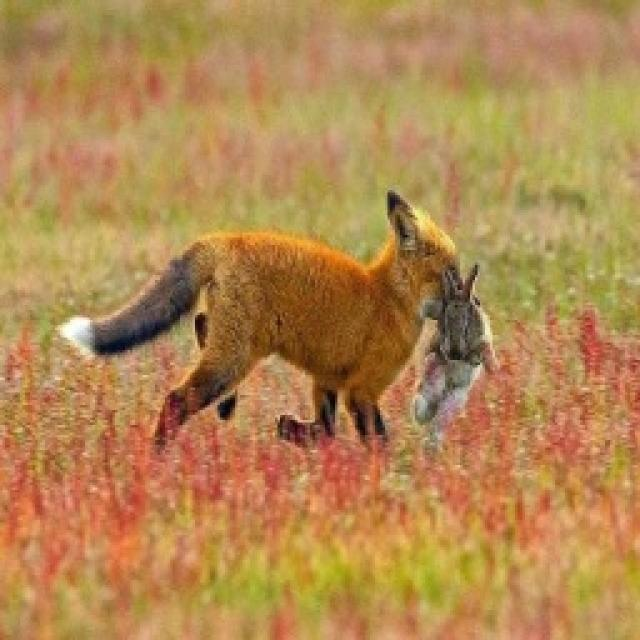not_pig: (410, 260, 495, 455)
